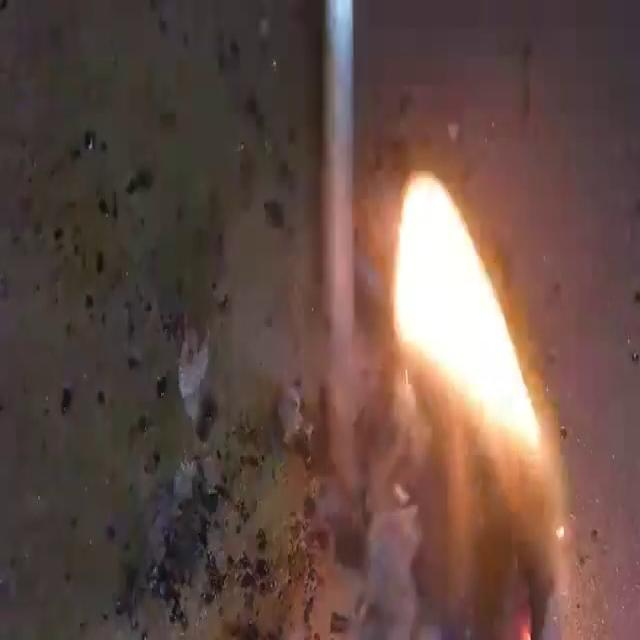Fire: (389, 165, 544, 462)
